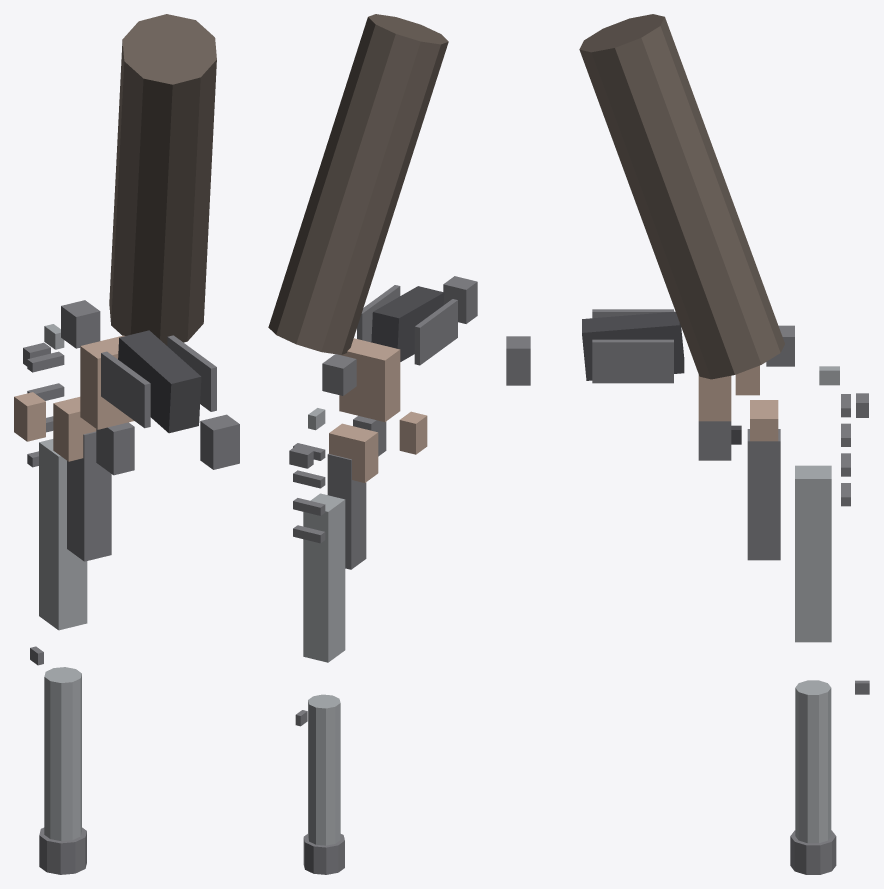
The model's file is deagle_fp_v0.glb.
3 views of the same model, side by side, from view 1: azimuth 30°, elevation 25°; view 2: azimuth 150°, elevation 25°; view 3: azimuth 270°, elevation 25° (orthographic). The views are drawn at different scales.
Visible parts, largest first — view 1: fp_hand, deagle_gun; view 2: fp_hand, deagle_gun; view 3: fp_hand, deagle_gun.
Boxes of the visible parts, bbox=[...] form: fp_hand: bbox=[14, 14, 216, 461]; deagle_gun: bbox=[23, 300, 239, 874]; fp_hand: bbox=[268, 14, 448, 482]; deagle_gun: bbox=[289, 276, 477, 874]; fp_hand: bbox=[579, 14, 784, 441]; deagle_gun: bbox=[506, 309, 869, 874].
Size of the model in its own units: 0.1155 by 0.5726 by 0.222.
